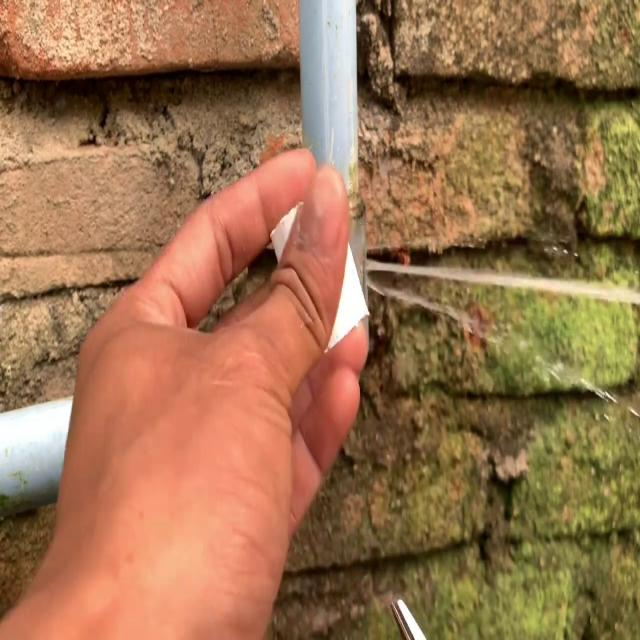leak: (366, 274, 640, 416), (365, 257, 640, 304)
